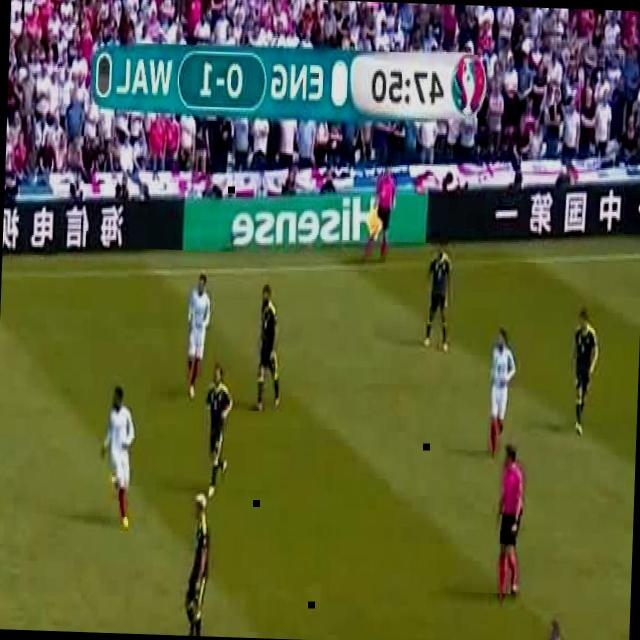player-white: (98, 385, 136, 532), (496, 442, 526, 600), (183, 491, 213, 637), (202, 362, 233, 498), (254, 283, 284, 413), (571, 309, 600, 434), (488, 328, 516, 454), (183, 274, 211, 398), (423, 242, 455, 350), (366, 168, 396, 262), (543, 618, 579, 640)
